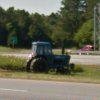Tractor: (19, 35, 78, 82)
